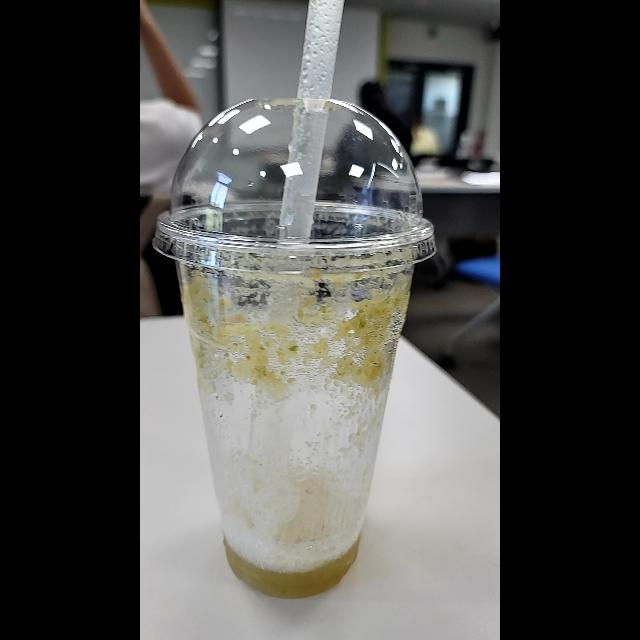plastic_cup: (152, 66, 424, 600)
plastic_cup_lid: (156, 91, 438, 285)
straw: (262, 0, 345, 322)
